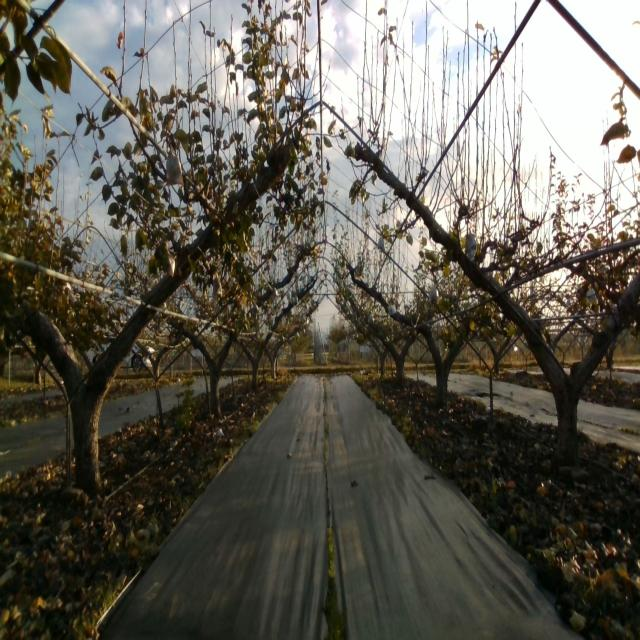pearbags: (166, 143, 184, 187), (465, 228, 477, 262), (429, 284, 440, 308)
